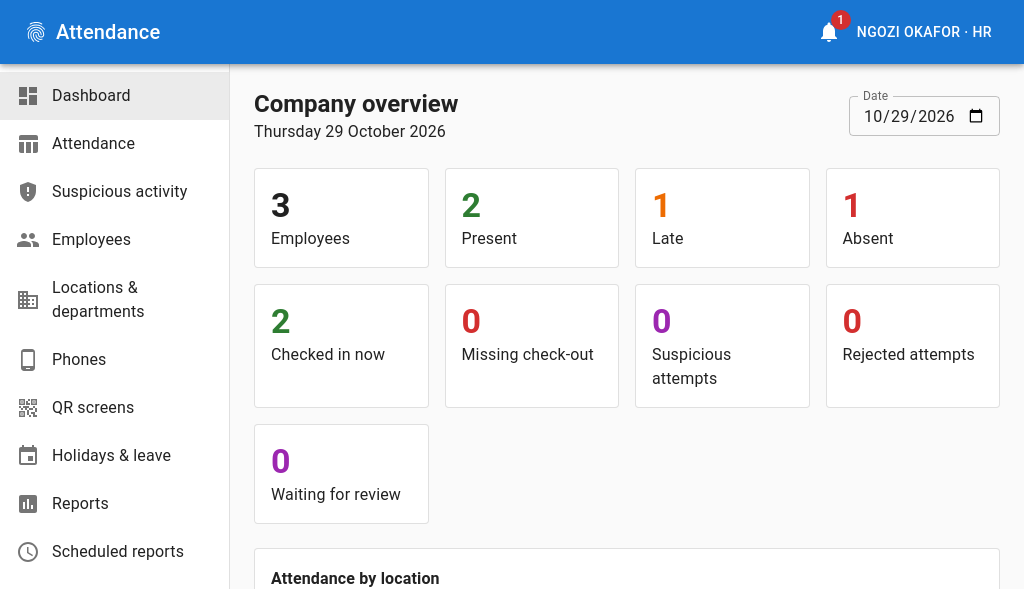
it: Alerts bell › shows unread alerts and opens the linked page
This screenshot has width=1024, height=589.
Expected: the text "1" is shown, [831,10,851,30]
Click the button named "Alerts": (829, 32) [809,12,849,52]
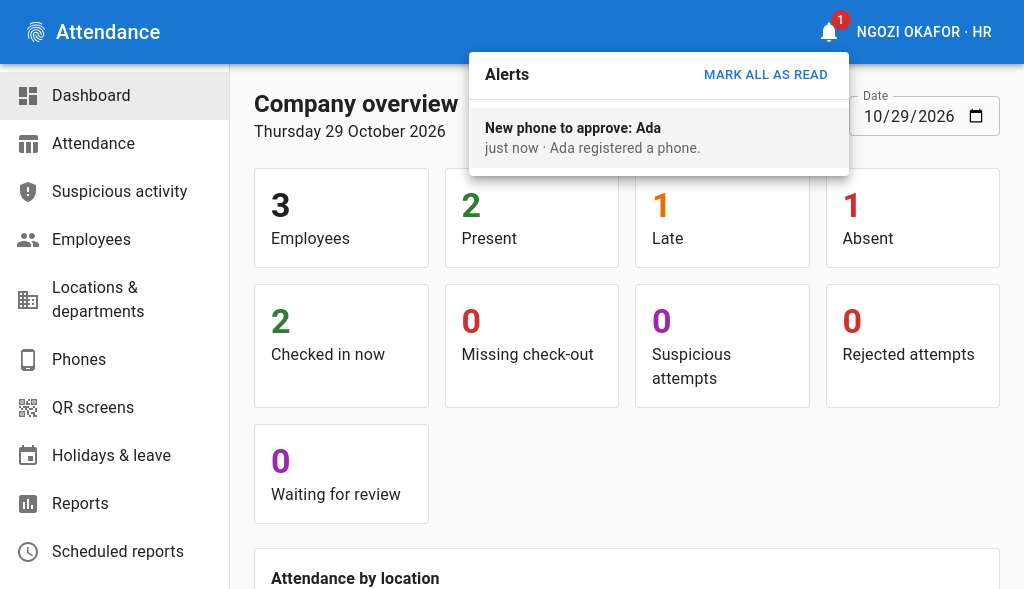
Click the text "New phone to approve: Ada": (573, 128) [485,120,661,136]
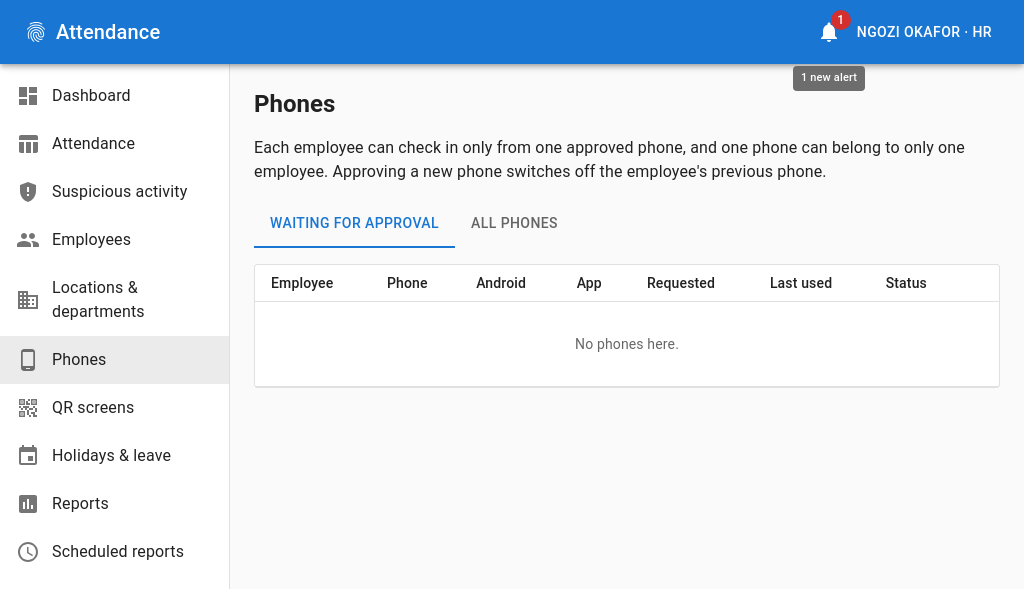
Now the heading "Phones" is shown, box [254,90,335,118]
